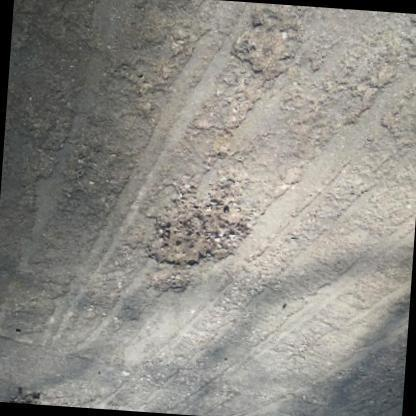pothole: (144, 184, 252, 266), (231, 0, 311, 91), (153, 266, 194, 296)
